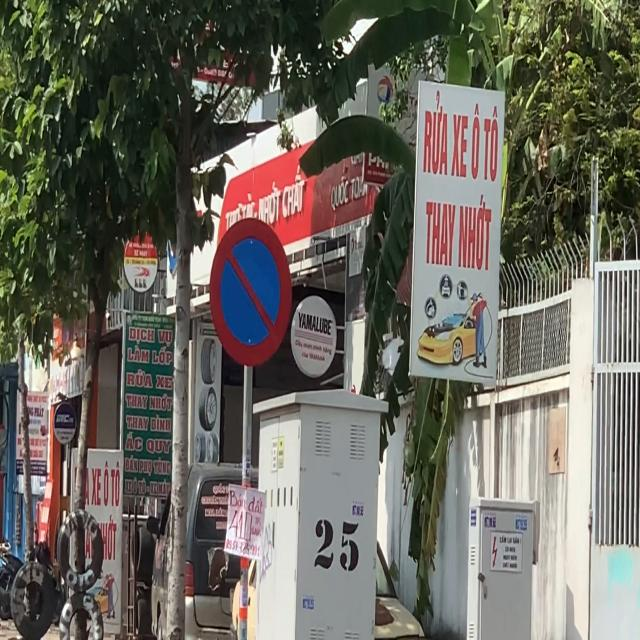Cam do: (209, 216, 293, 369)
